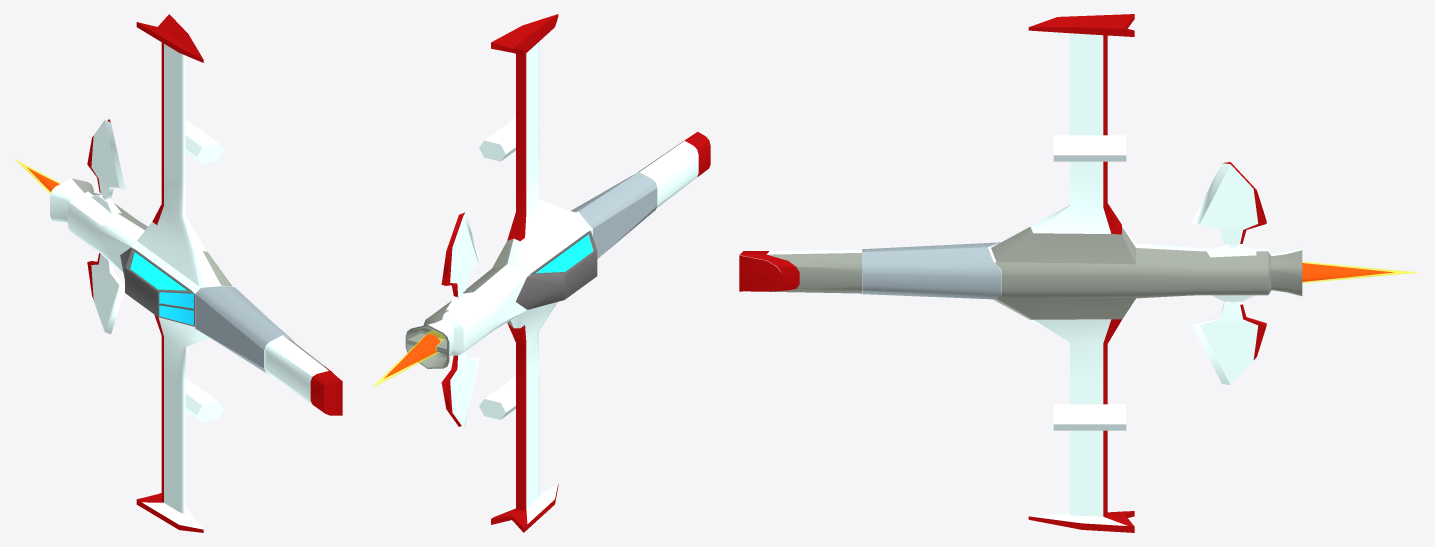
The model's file is ship.glb.
The picture shows the model from 3 angles, left to right: view 1: azimuth 30°, elevation 25°; view 2: azimuth 150°, elevation 25°; view 3: azimuth 270°, elevation 25°; orthographic projection. The views are drawn at different scales.
Parts seen in each view (by area): view 1: Cube, Cone; view 2: Cube, Cone, Cone.001; view 3: Cube, Cone, Cone.001.
Part boxes in pixels (x1,y1,x2,y2): Cube: [50, 14, 342, 532]; Cone: [15, 159, 60, 193]; Cube: [405, 14, 710, 532]; Cone: [372, 330, 444, 387]; Cone.001: [384, 334, 439, 378]; Cube: [739, 14, 1302, 532]; Cone: [1302, 261, 1419, 283]; Cone.001: [1302, 263, 1394, 281].
Size of the model in its own units: 0.7912 by 4.87 by 5.99.
